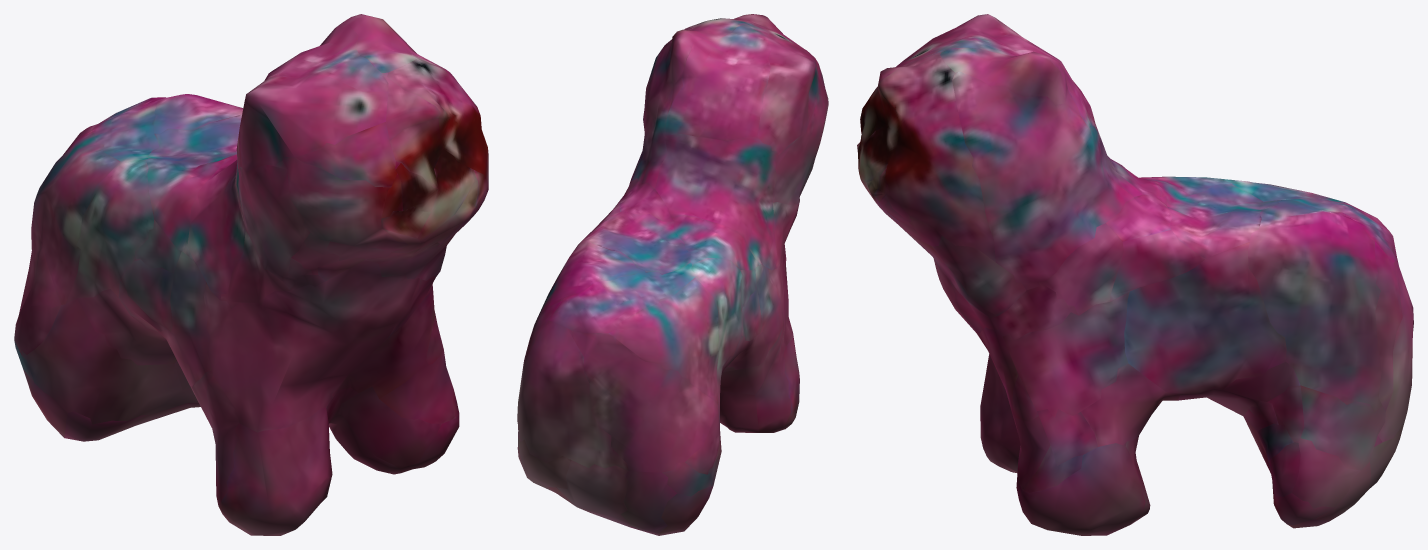
File: hall.glb
3 views of the same model, side by side, from view 1: azimuth 30°, elevation 25°; view 2: azimuth 150°, elevation 25°; view 3: azimuth 270°, elevation 25° (orthographic). The views are drawn at different scales.
Size of the model in its own units: 0.3422 by 0.5781 by 0.6123.
1 material, 1 textured.
